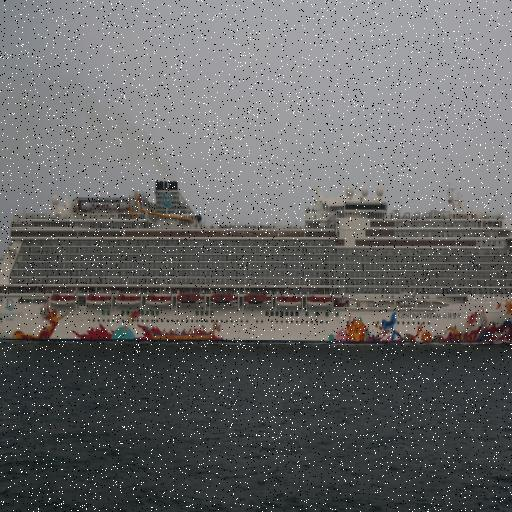cruises: (1, 168, 512, 364)
